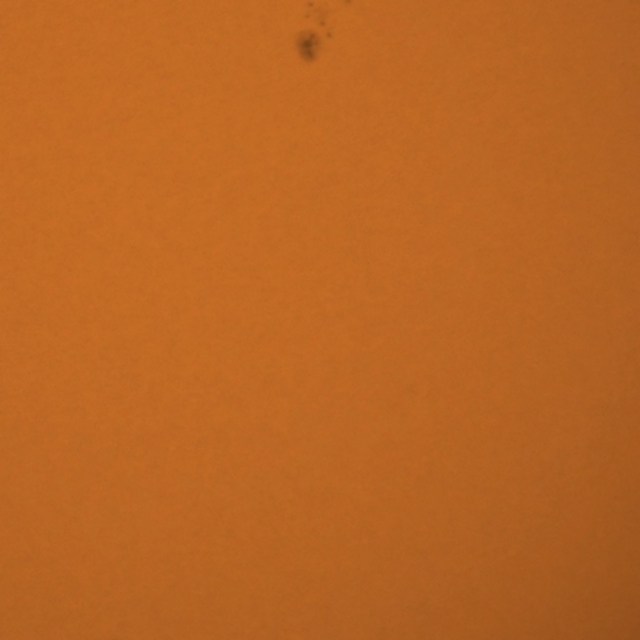sunspot: (297, 21, 333, 66), (304, 1, 329, 31), (304, 1, 317, 22)
